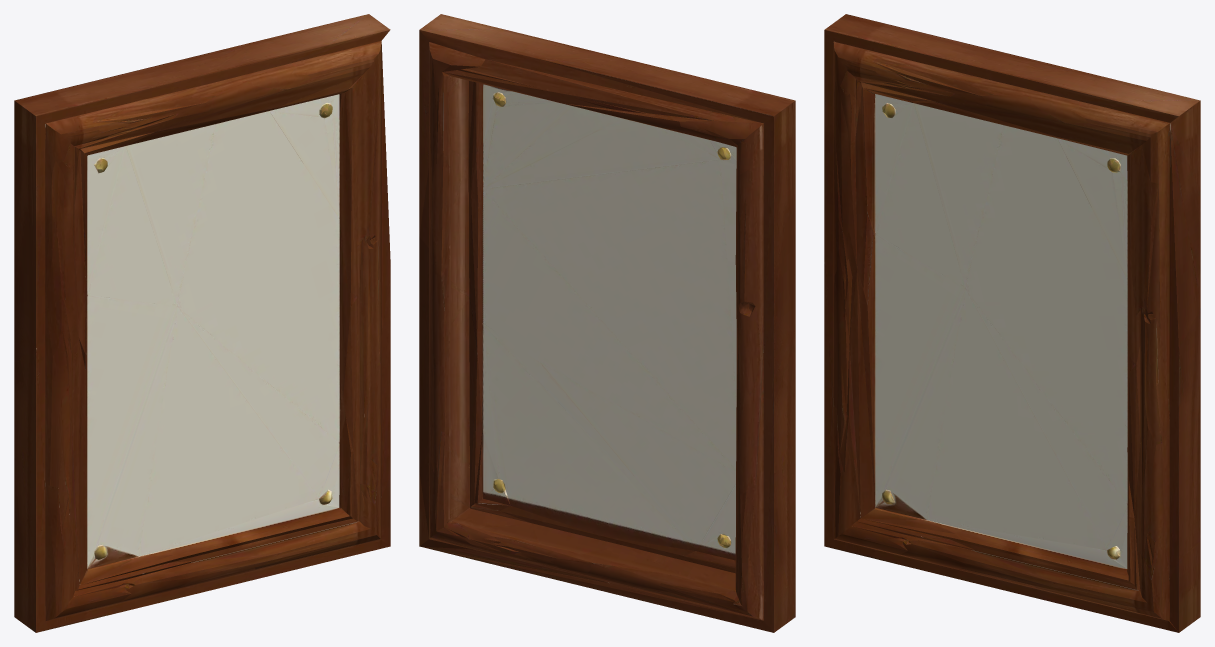
The model's file is notice_frame.glb.
The picture shows the model from 3 angles, left to right: view 1: azimuth 30°, elevation 25°; view 2: azimuth 150°, elevation 25°; view 3: azimuth 330°, elevation 25°; orthographic projection.
Size of the model in its own units: 1.36 by 1.9 by 0.2327.
1 material, 1 textured.
